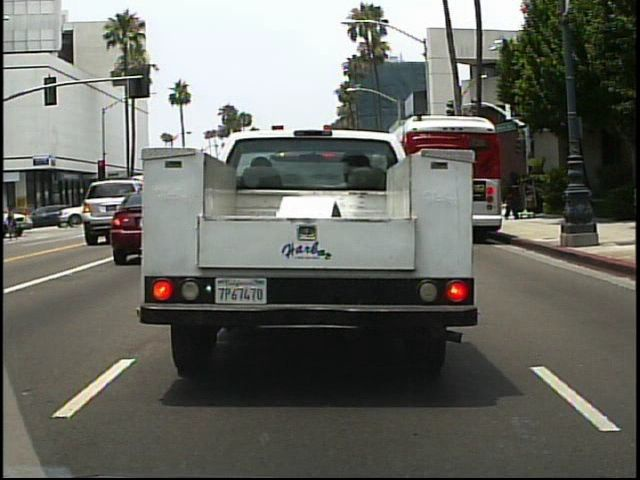person: (502, 170, 526, 222), (0, 199, 22, 246), (26, 199, 27, 234)
